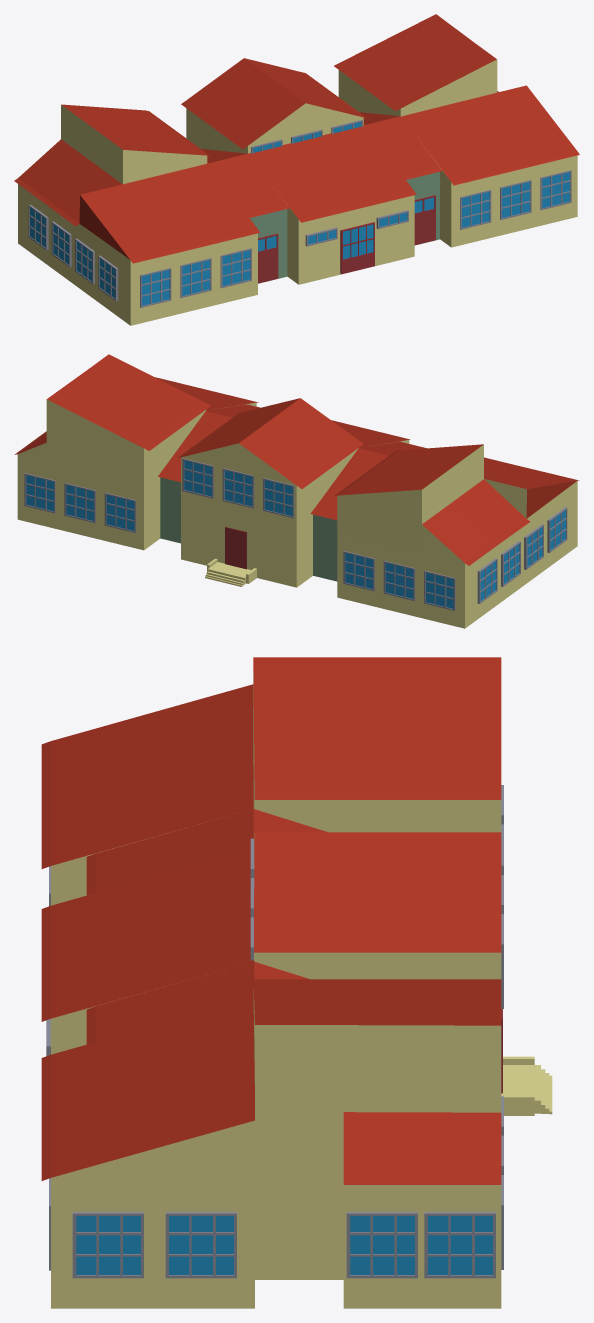
Rendered from elektrik.fbx.
3 renders of one model, top to bottom at view 1: azimuth 30°, elevation 25°; view 2: azimuth 150°, elevation 25°; view 3: azimuth 270°, elevation 25°, orthographic. The views are drawn at different scales.
Visible parts, largest first — view 1: Plane, Cube.001, Cube, Cube.009, Cube.011, Cube.012, Cube.013, Cube.010, Cube.008; view 2: Plane, Cube.005, Cube.006, Cube.007, Cube.009, Cube.014; view 3: Plane, Cube.004, Cube.003.
Part boxes in pixels (bbox=[...]): Plane: bbox=[14, 14, 579, 325]; Cube.001: bbox=[140, 248, 251, 307]; Cube: bbox=[460, 170, 571, 229]; Cube.009: bbox=[28, 204, 118, 301]; Cube.011: bbox=[340, 222, 374, 274]; Cube.012: bbox=[414, 195, 435, 245]; Cube.013: bbox=[258, 233, 278, 283]; Cube.010: bbox=[305, 210, 408, 246]; Cube.008: bbox=[251, 119, 362, 153]; Plane: bbox=[14, 354, 579, 628]; Cube.005: bbox=[343, 551, 455, 610]; Cube.006: bbox=[24, 473, 136, 532]; Cube.007: bbox=[182, 458, 294, 518]; Cube.009: bbox=[477, 507, 567, 603]; Cube.014: bbox=[225, 527, 246, 569]; Plane: bbox=[41, 657, 552, 1308]; Cube.004: bbox=[346, 1212, 495, 1278]; Cube.003: bbox=[72, 1212, 236, 1278].
Bounding box in the file's own units: 3430 × 941 × 1667.
